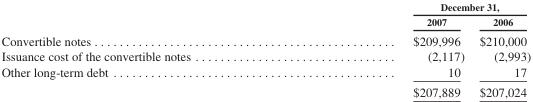table: (0, 0, 530, 98)
table column: (0, 0, 301, 98), (301, 0, 471, 98), (471, 0, 530, 98)
table column header: (0, 0, 530, 30)
table row: (0, 30, 530, 48), (0, 63, 530, 81), (0, 13, 530, 30), (0, 81, 530, 98), (0, 48, 530, 63), (0, 0, 530, 13)
table spanning cell: (301, 0, 530, 13)
